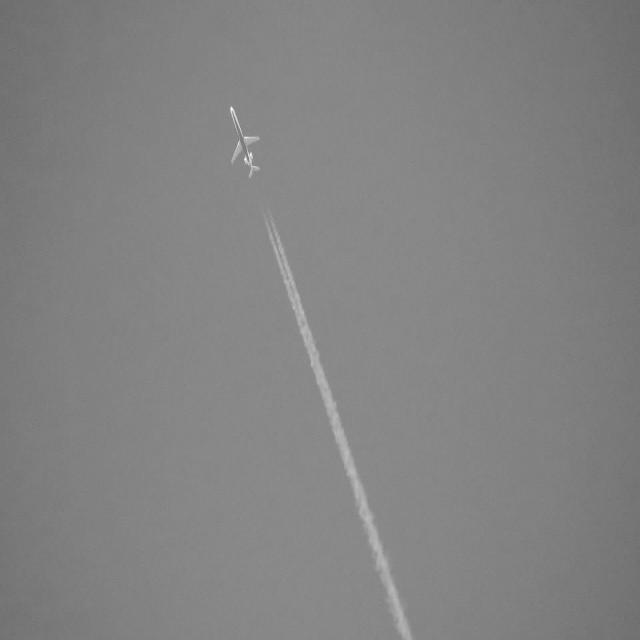aeroplane: (226, 98, 263, 179)
